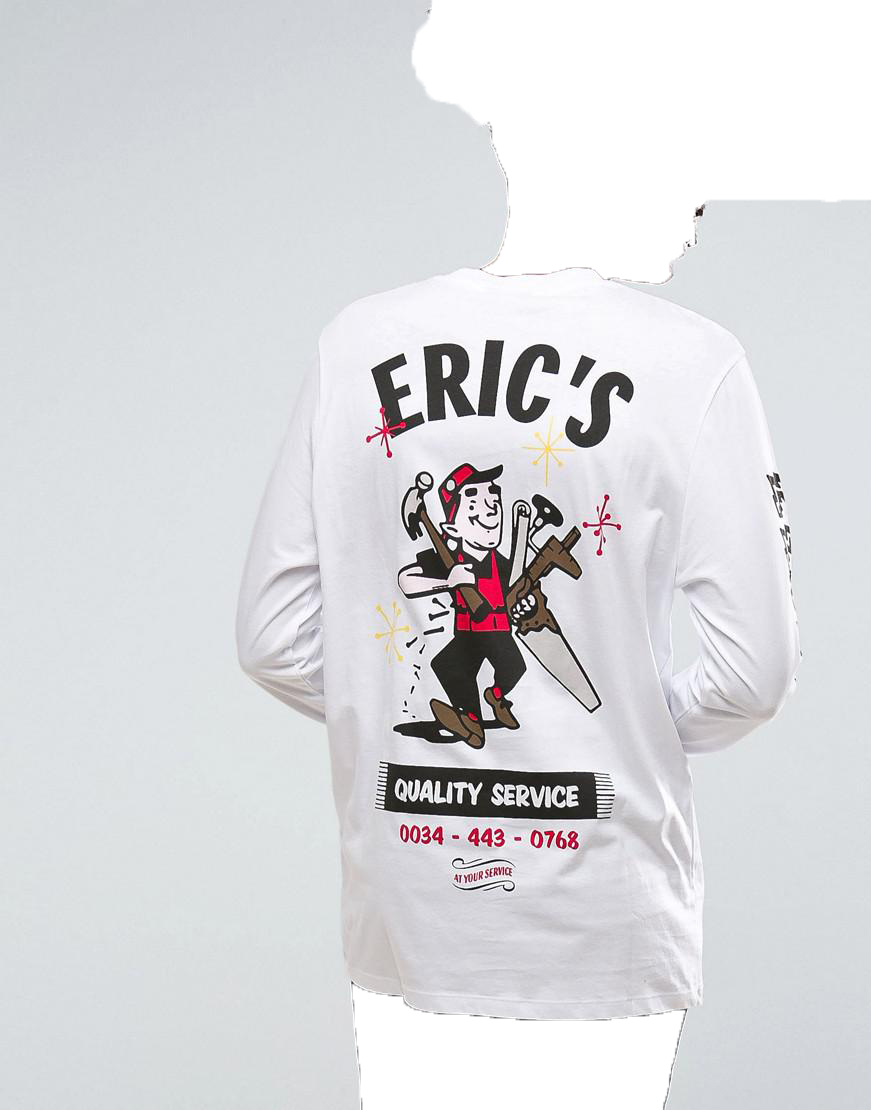teeshirt: (227, 268, 801, 1027)
